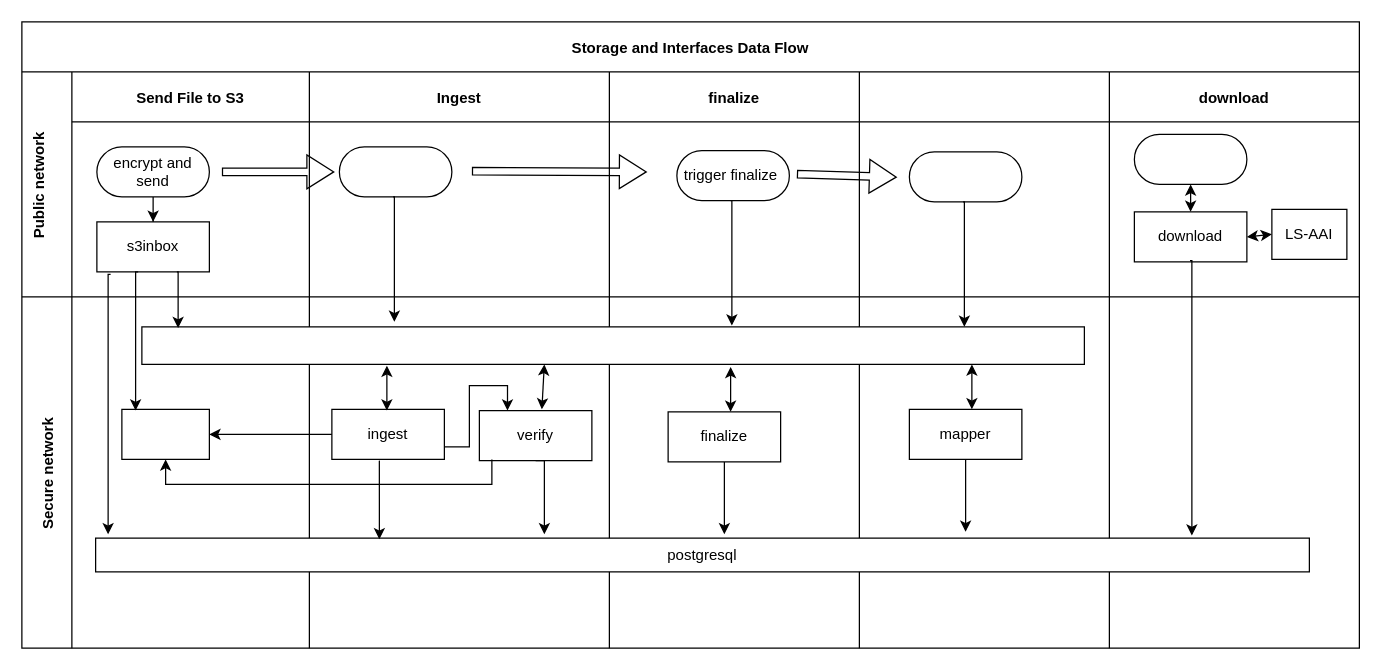
The diagram is 1381 pixels wide and 670 high, and some of its shapes have lost their labels. Here are the shapes that lost their labels. From the top down, the centre of each, then its label:
point (395, 171): trigger ingestion
point (965, 176): map files to a dataset
point (1190, 158): request data
point (612, 345): rabbitmq
point (165, 433): S3
